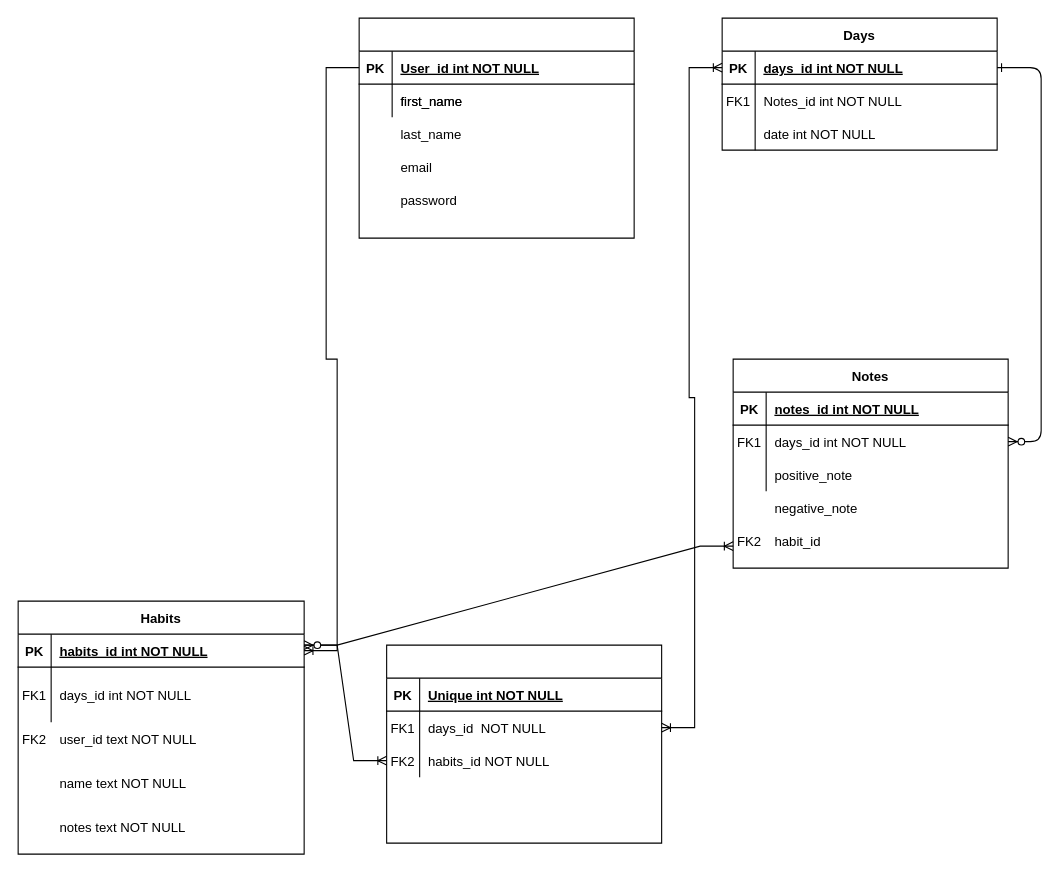
Image size: 1059x872. Some labels were removed from this diagram. The box of each missing label's shape, as (x1, y1, x2, y2) in pixels:
Days_Habits: (386, 644, 662, 843)
Users: (358, 17, 634, 238)
